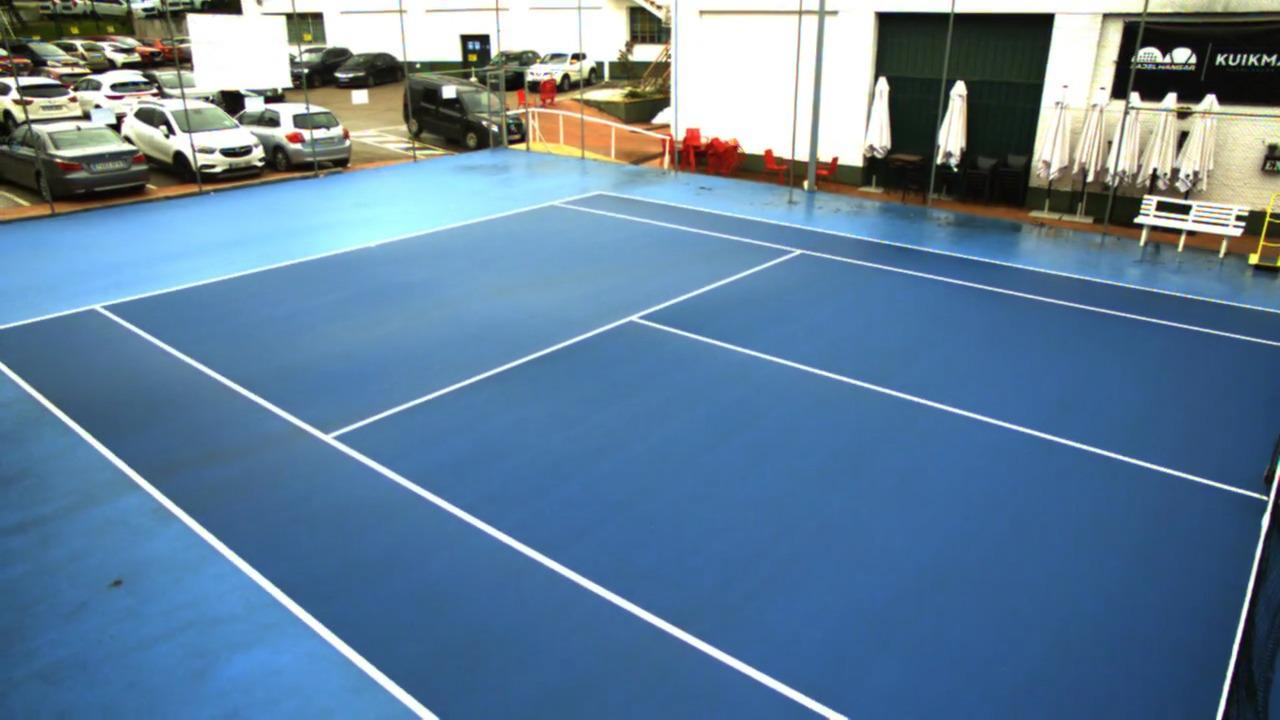cancha_tenis: (95, 199, 1280, 720)
point_f1: (86, 292, 115, 322)
point_f2: (546, 195, 571, 217)
point_fc1: (365, 238, 379, 254)
point_i1: (318, 423, 354, 449)
point_i2: (776, 242, 812, 263)
point_ic1: (622, 308, 651, 334)
